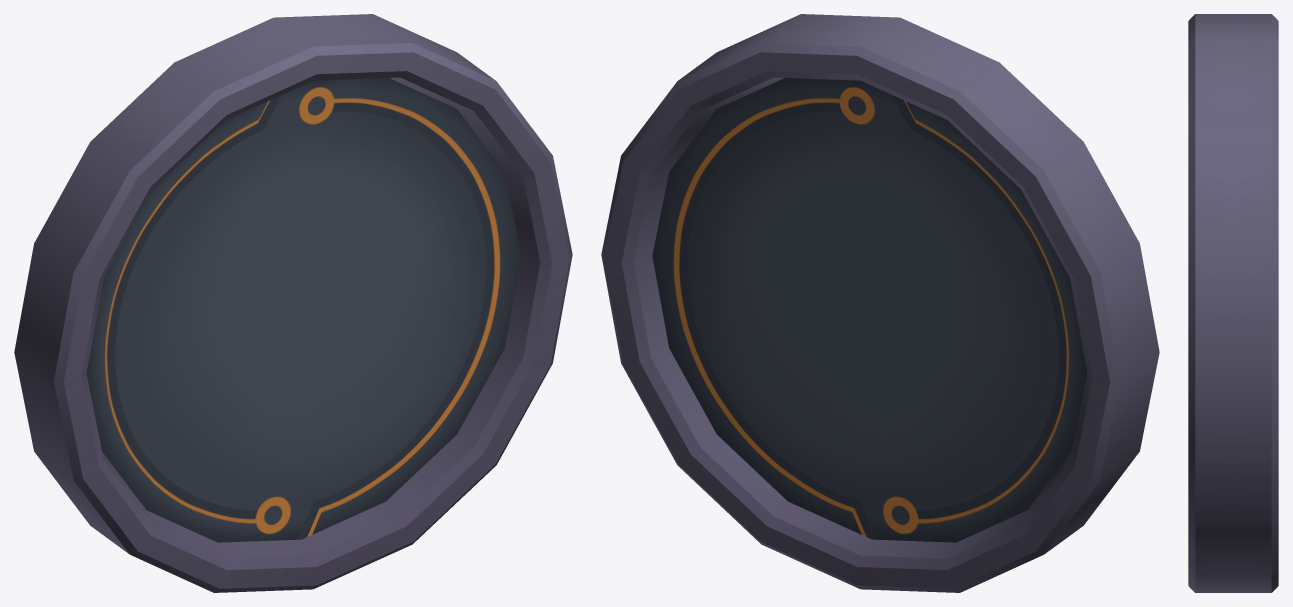
File: MODEL_SymbolPlate.fbx
3 views of the same model, side by side, from view 1: azimuth 30°, elevation 25°; view 2: azimuth 150°, elevation 25°; view 3: azimuth 270°, elevation 25° (orthographic). The views are drawn at different scales.
Parts seen in each view (by area): view 1: SymbolPlate; view 2: SymbolPlate; view 3: SymbolPlate.
Part boxes in pixels (left/top/right/bottom): SymbolPlate: left=14, top=14, right=572, bottom=592; SymbolPlate: left=601, top=14, right=1159, bottom=592; SymbolPlate: left=1188, top=14, right=1278, bottom=592.
Bounding box in the file's own units: 38 × 38 × 5.94.
1 material, 1 textured.
